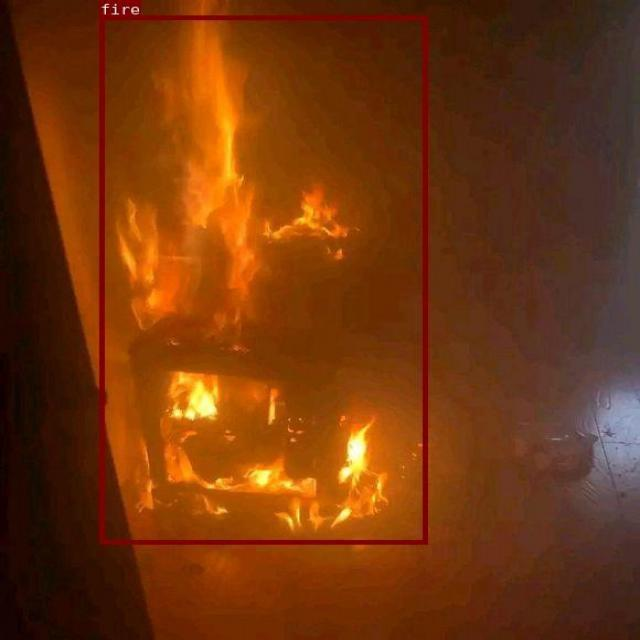fire: (99, 15, 426, 543)
